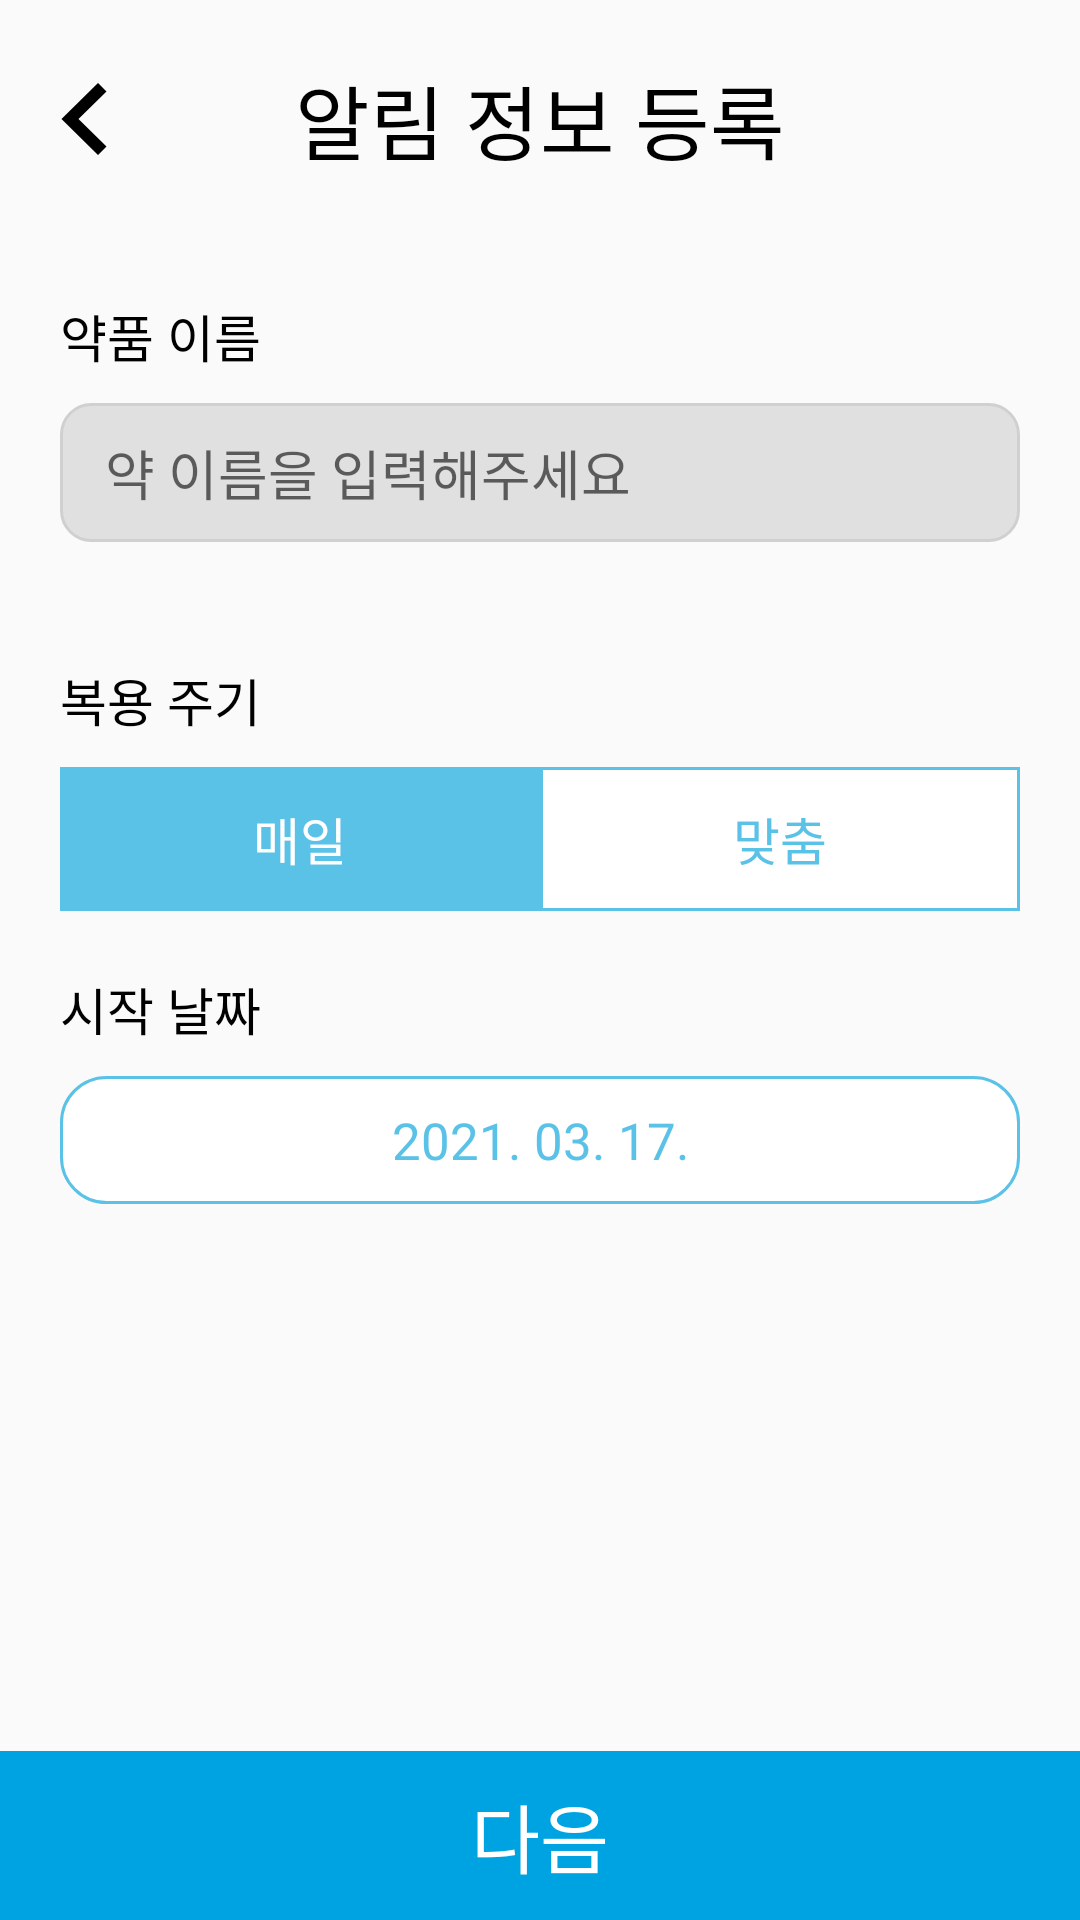

Point at icon controls on the screen. Image size 1080×1920, points as (x=x, y=y).
back: (x=84, y=119)
